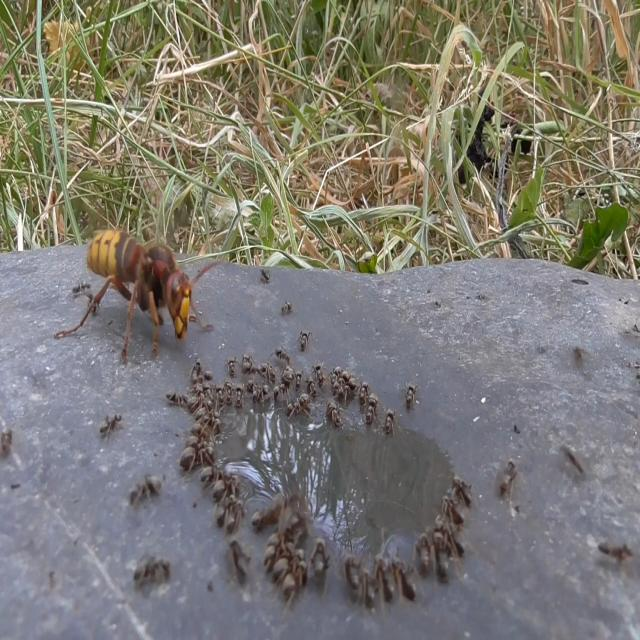Hornets: (54, 214, 220, 369)
